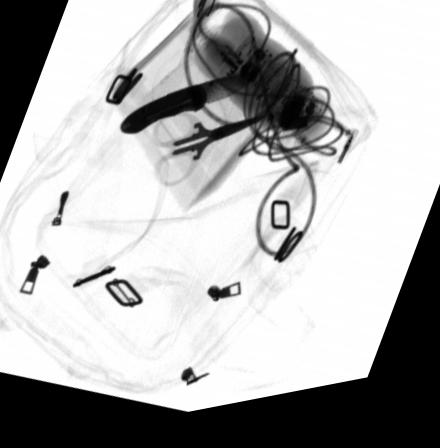Knife: (118, 80, 258, 140)
Scissors: (148, 114, 267, 193)
